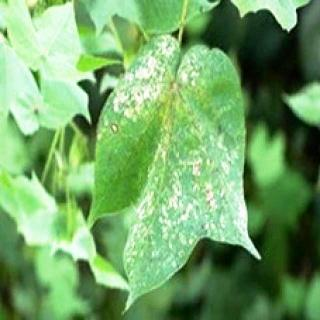grey mildew: (92, 31, 264, 309)
